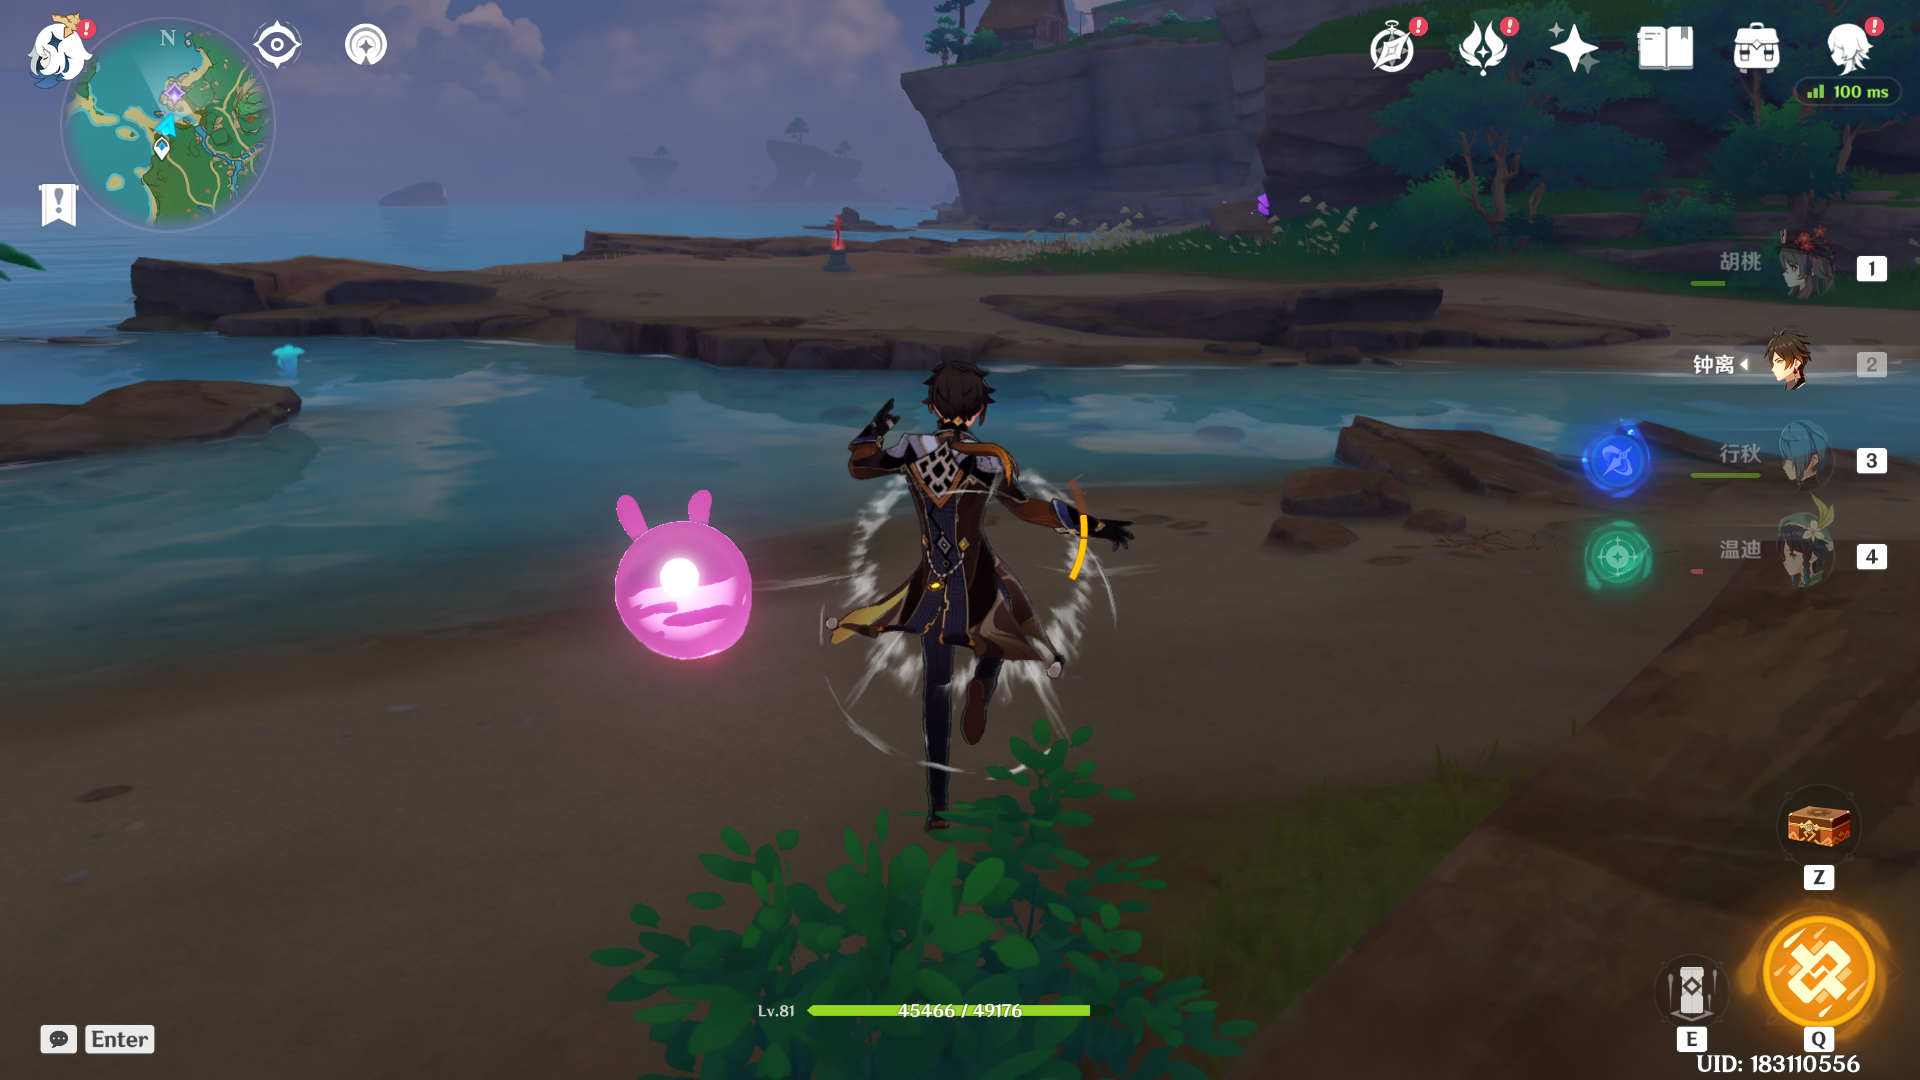character: (787, 313, 1168, 891)
